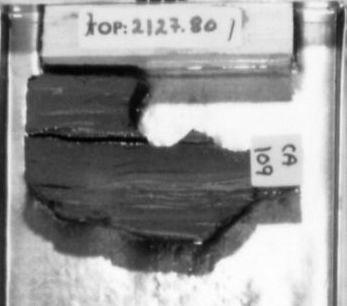hplug: (124, 78, 200, 153), (202, 118, 279, 157)
